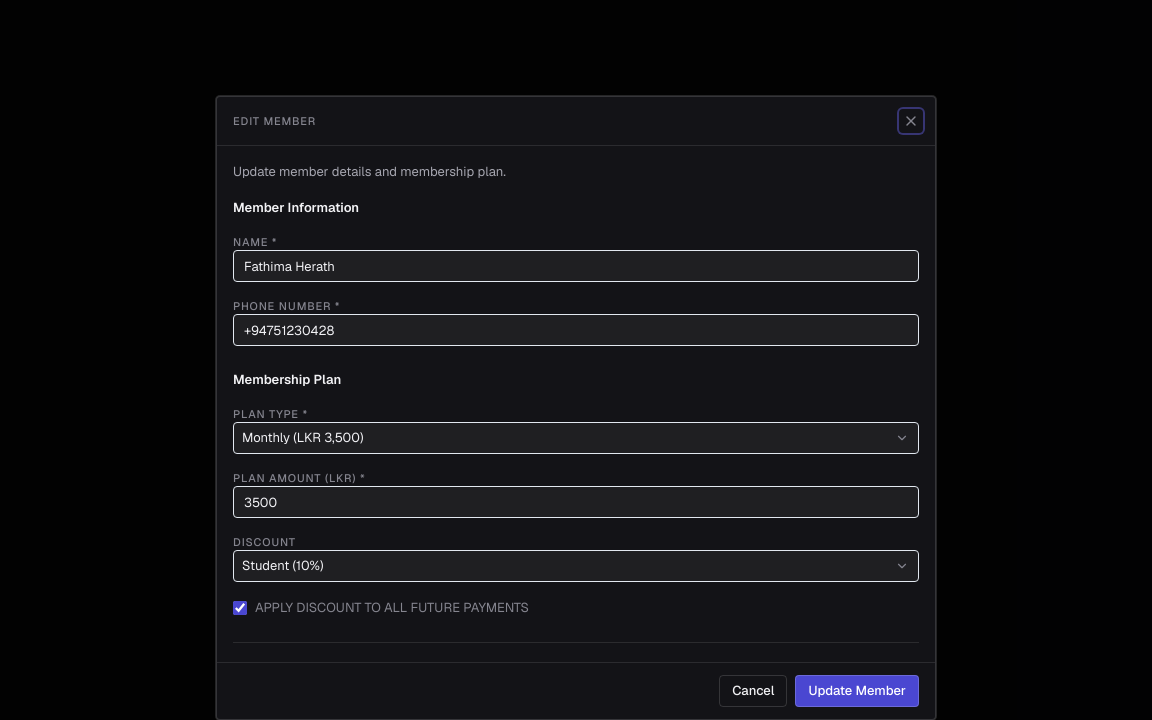
Scenario: EditMemberModal — when the server refuses › keeps the modal open and the typed values after a failure
The image size is (1152, 720).
Replace the text in the field labelled "Name *" with "Typed Name" at (576, 266), box [233, 250, 919, 282]
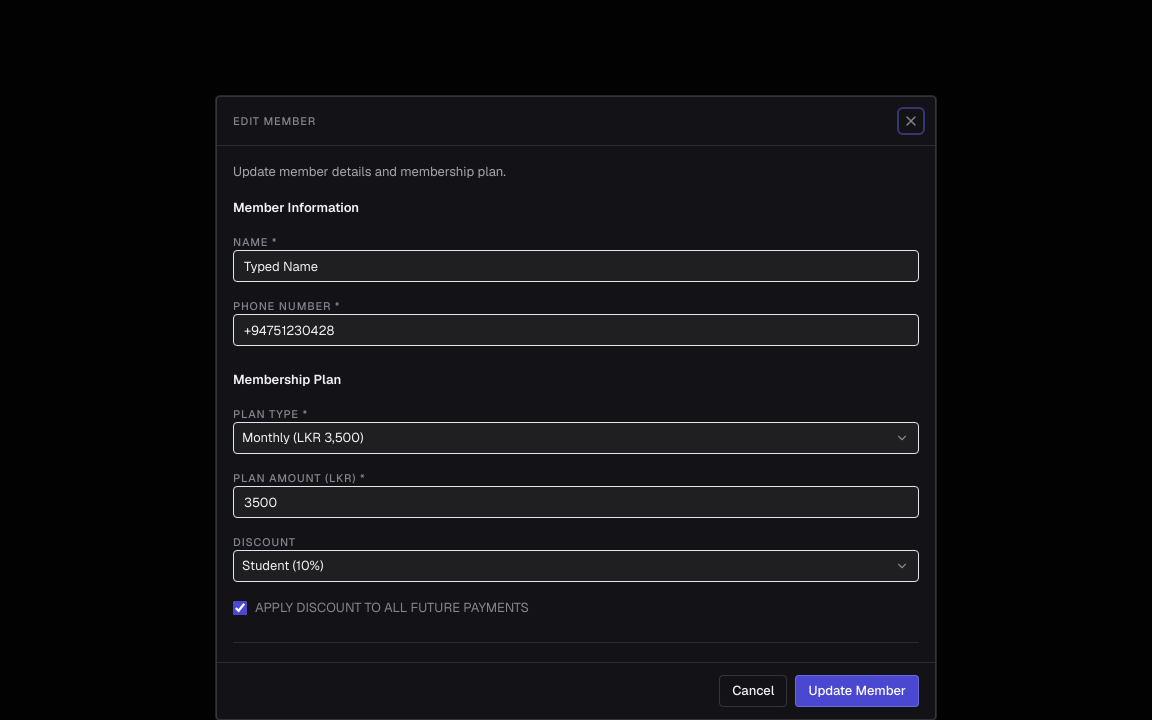
Click the button "Update Member" at (857, 691), box [795, 675, 919, 707]
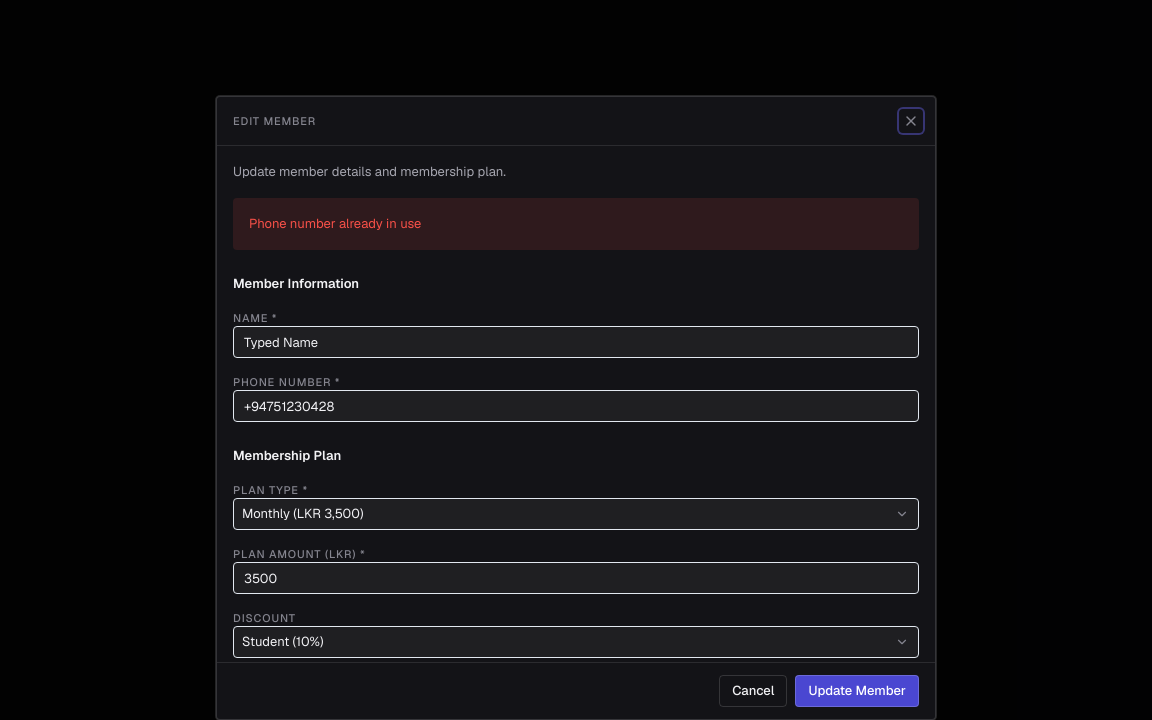
Check: the text "Phone number already in use" is shown, box [249, 215, 421, 232]
